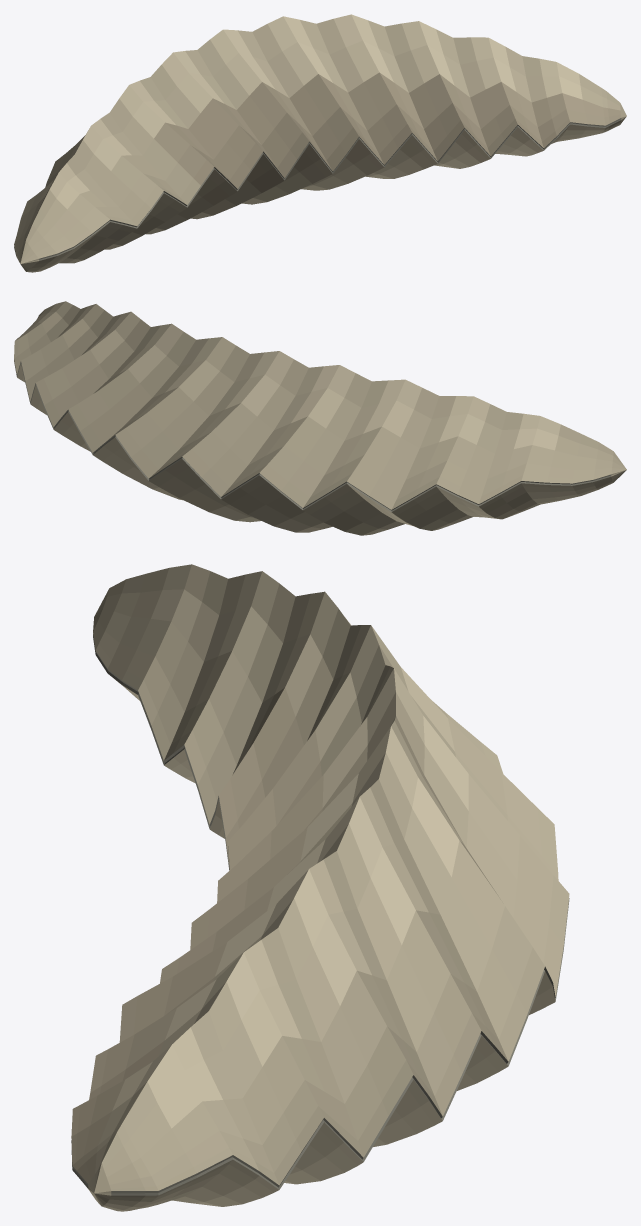
Rendered from rastellum.glb.
3 views of the same model, one above another, from view 1: azimuth 30°, elevation 25°; view 2: azimuth 150°, elevation 25°; view 3: azimuth 270°, elevation 25° (orthographic). The views are drawn at different scales.
Parts seen in each view (by area): view 1: Articulated shell - continuous unequal valves; view 2: Articulated shell - continuous unequal valves; view 3: Articulated shell - continuous unequal valves.
Boxes of the visible parts, x1,y1,x2,y2 form: Articulated shell - continuous unequal valves: (14,14,626,272); Articulated shell - continuous unequal valves: (14,301,626,535); Articulated shell - continuous unequal valves: (71,564,569,1211).
Bounding box in the file's own units: 0.07 × 0.0202 × 0.0256.
